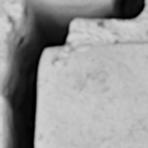brick: (36, 44, 147, 147), (68, 0, 88, 1)
crack: (1, 0, 147, 147)
